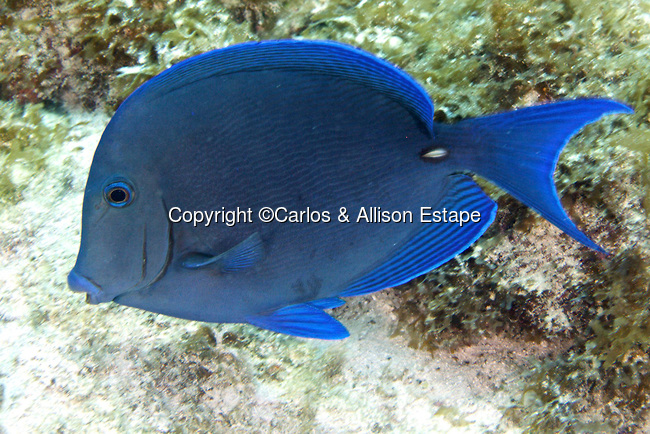Acanthurus_coeruleus: (65, 38, 637, 345)
